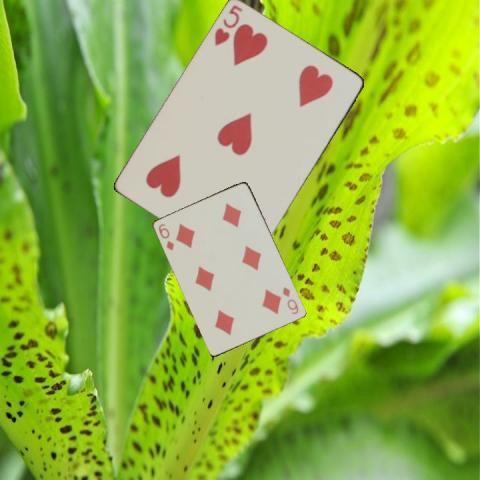5h: (211, 2, 245, 48)
6d: (280, 284, 300, 316), (156, 221, 176, 252)
